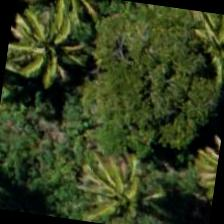Kelapa_Sawit: (2, 0, 102, 98), (77, 149, 177, 223), (177, 9, 223, 94)
